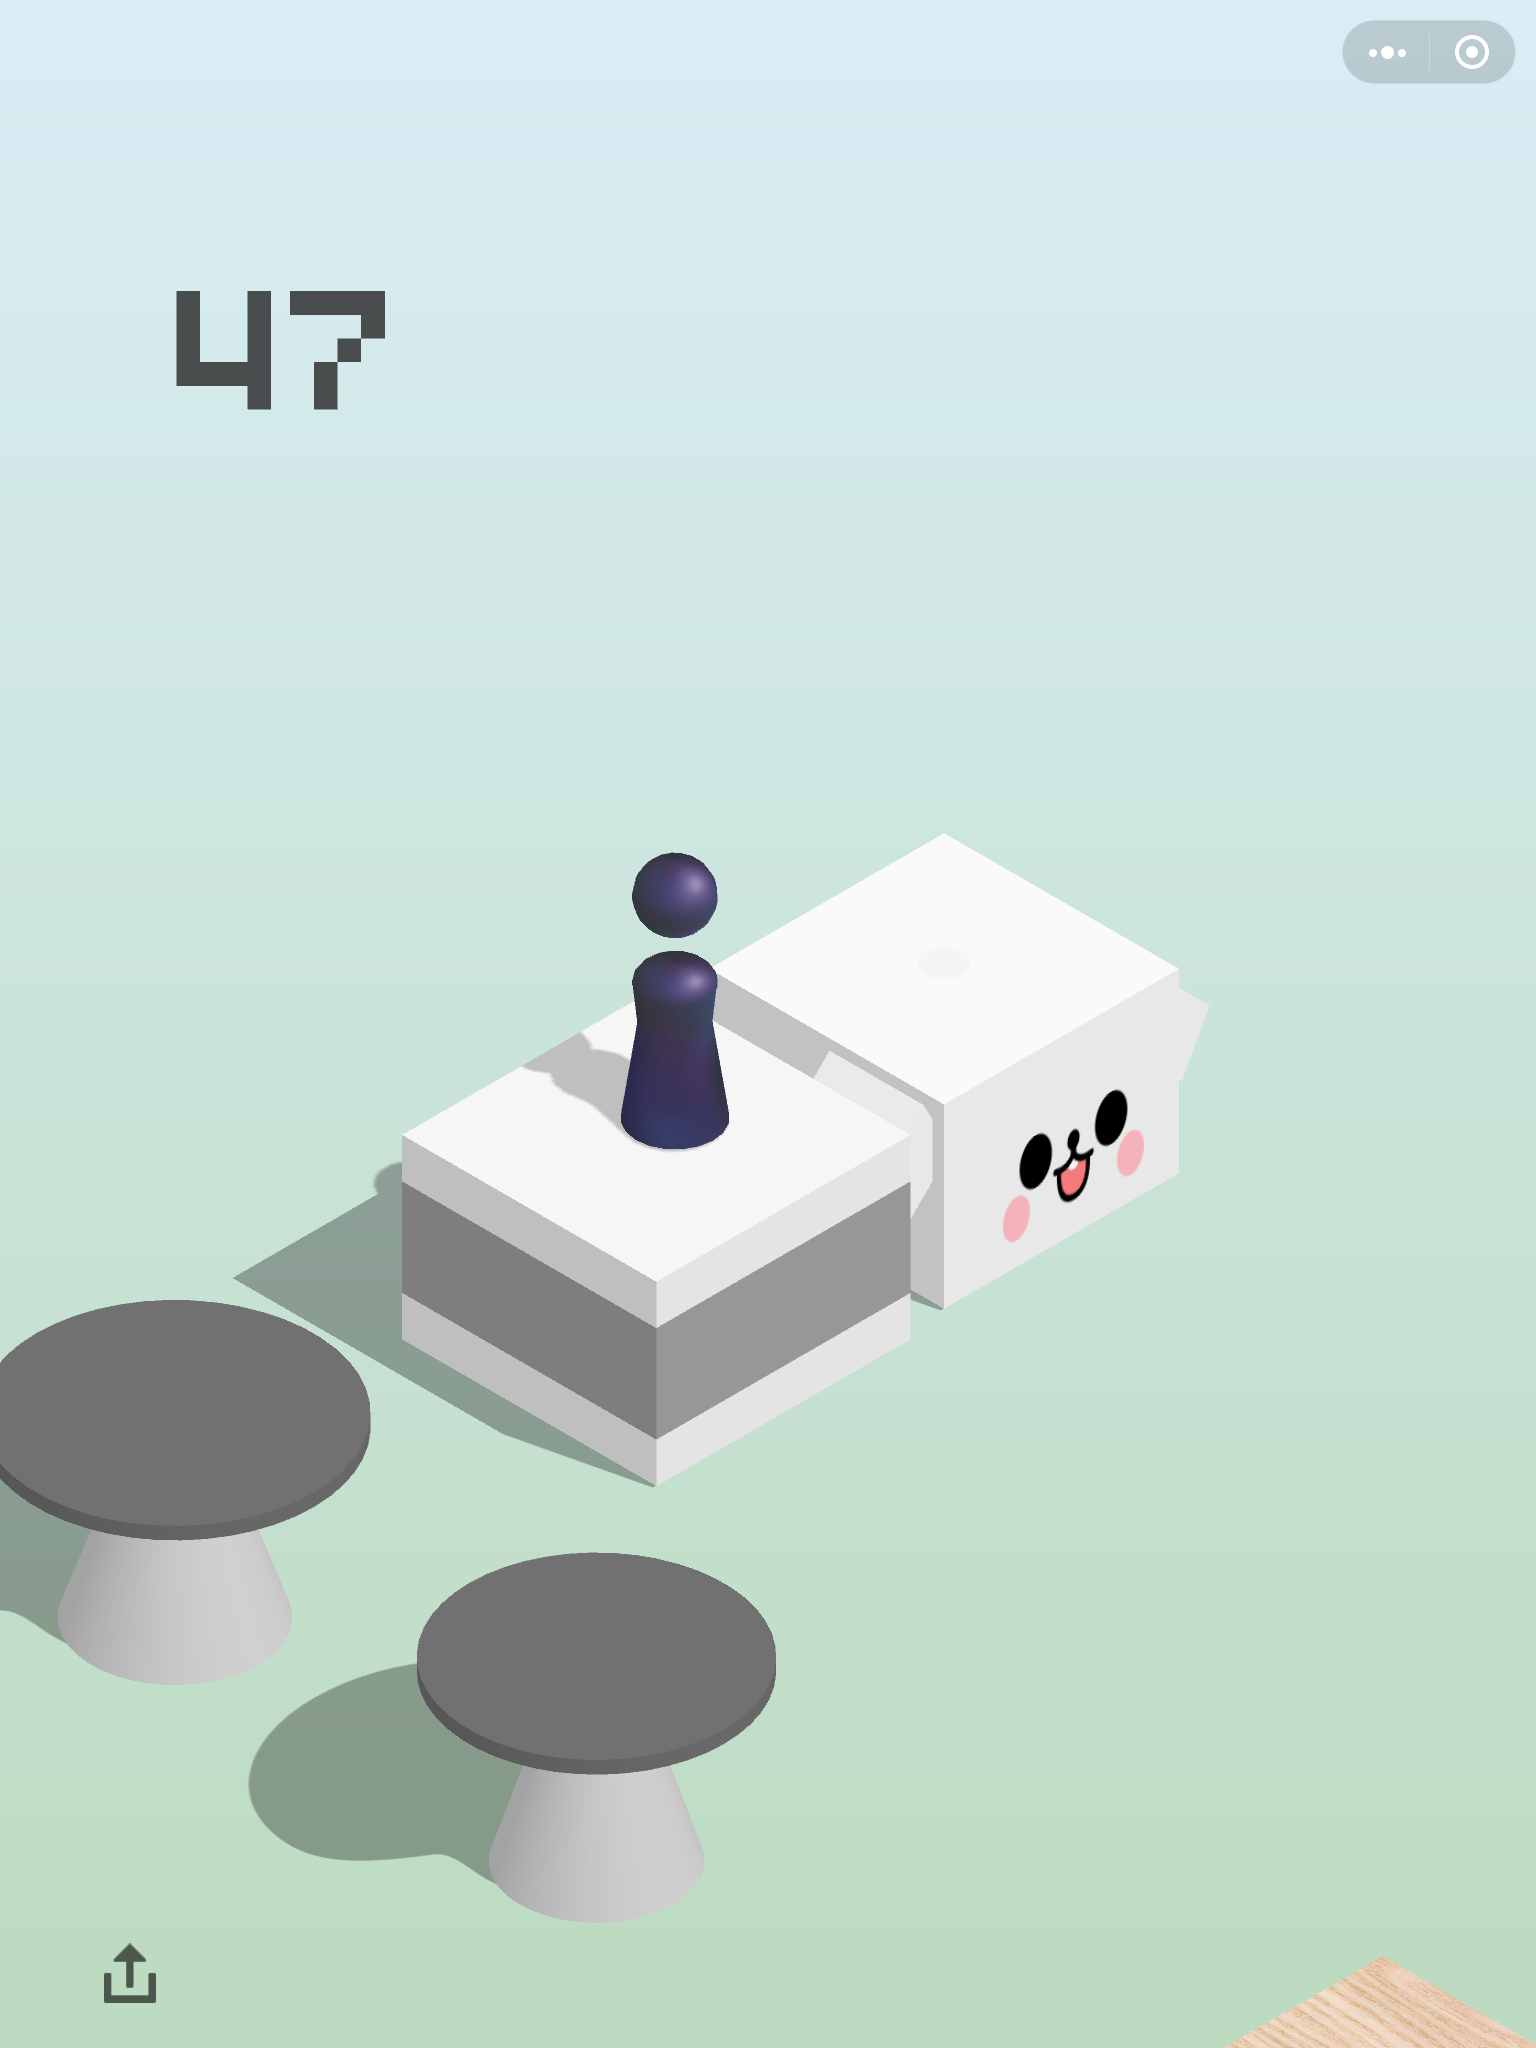c: (2, 1295, 378, 1690), (408, 1548, 779, 1930)
f: (394, 984, 916, 1493), (695, 826, 1212, 1309)
r: (616, 847, 736, 1156)
